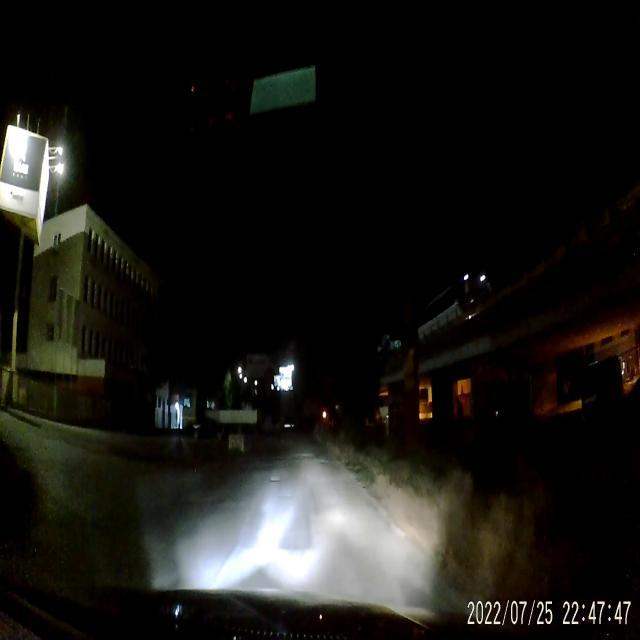Pothole: (266, 474, 282, 486)
